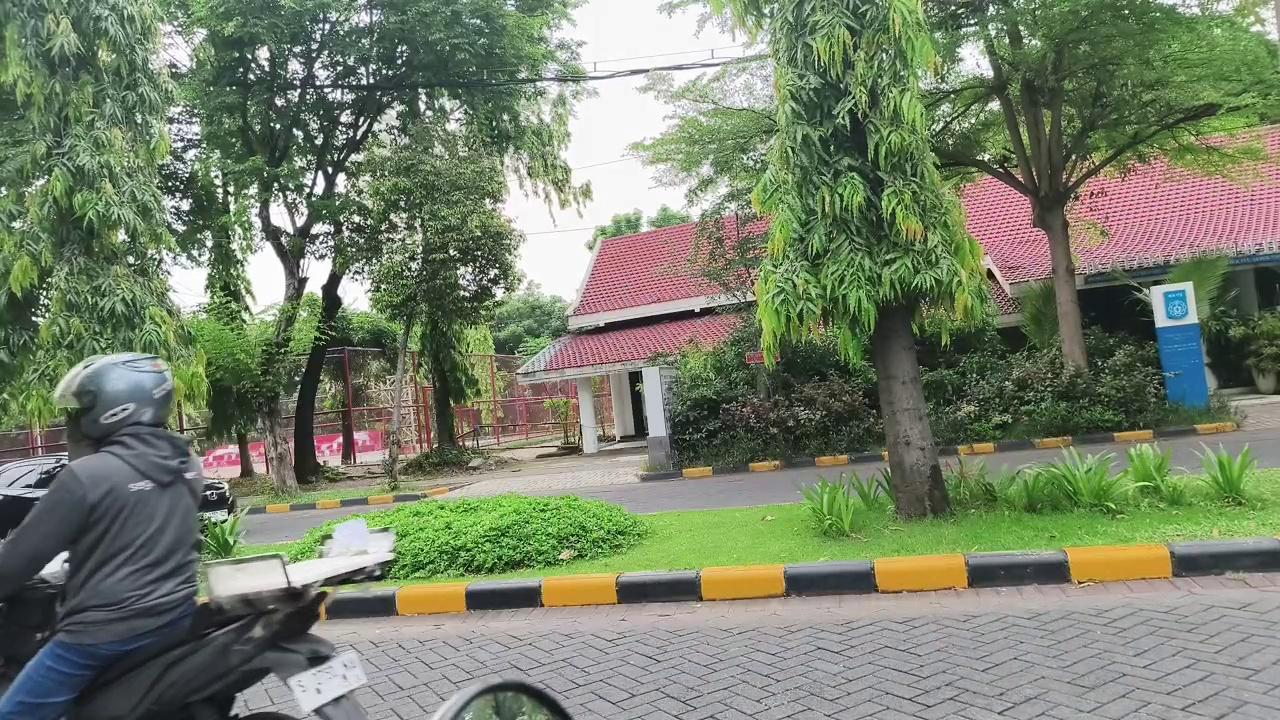Helmet: (0, 354, 201, 719)
Motor: (68, 530, 393, 719), (432, 680, 571, 719)
